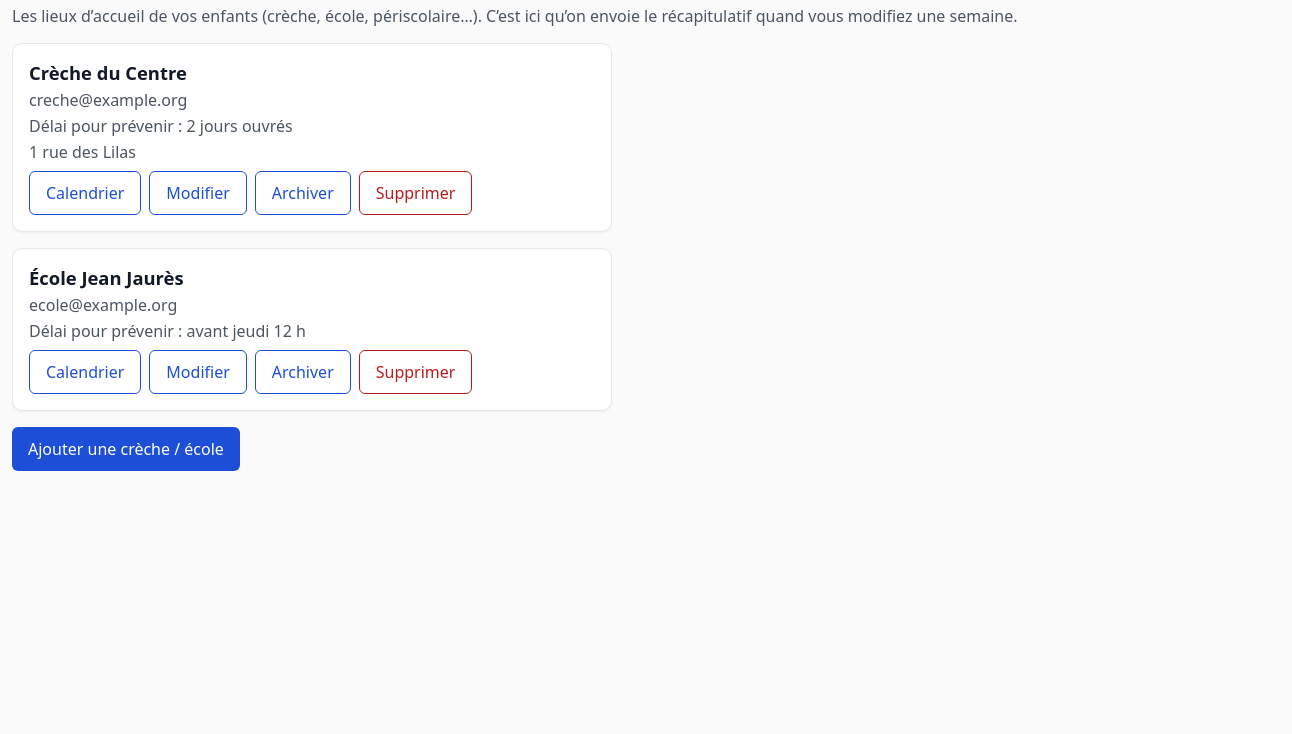
Test case: EtablissementsPage (per-foyer) › modifie une crèche / école depuis le formulaire prérempli
Expected: the heading "Crèche du Centre" is shown, [29,60,187,85]
Click the button with aria-label "Modifier Crèche du Centre": x=198, y=193 [149,171,247,215]
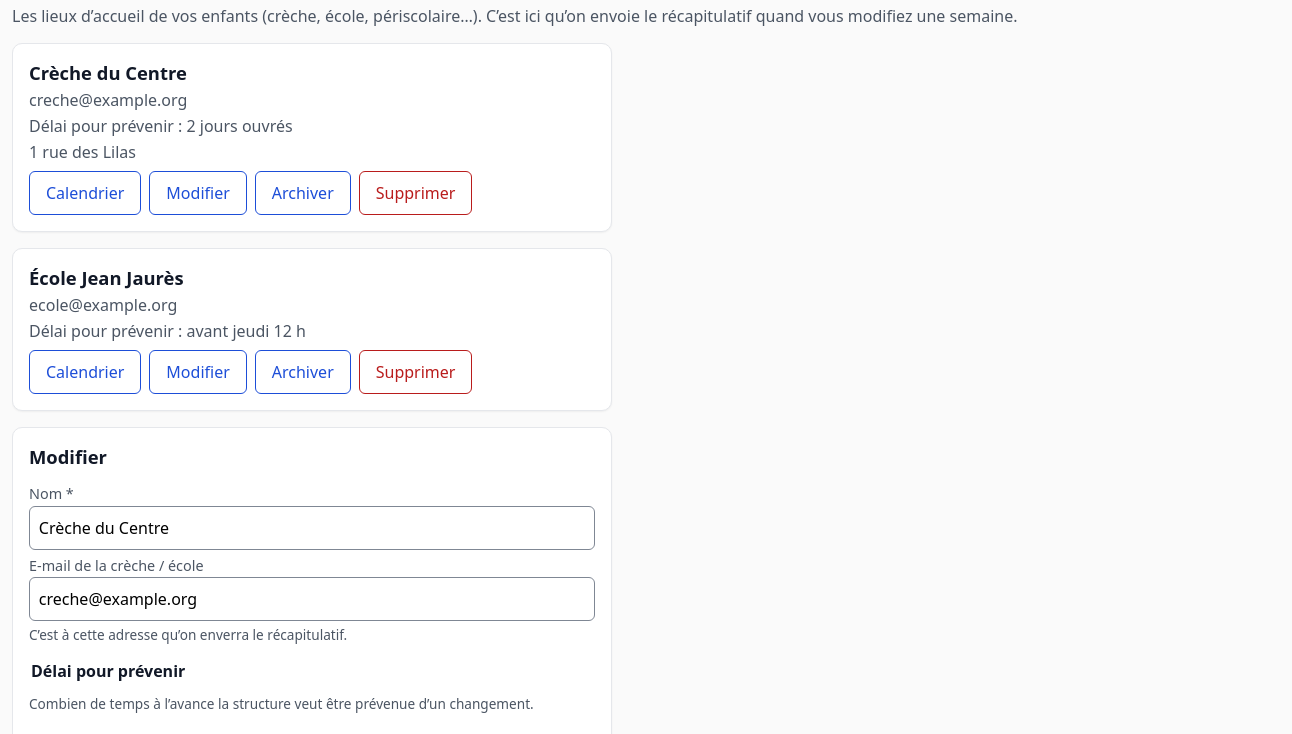
Expected: the heading "Modifier" is shown, [29,444,107,469]
Expected: the field labelled "Nom" holds "Crèche du Centre"
Replace the text in the field labelled "Nom" with "Crèche rebaptisée": x=312, y=528 [29,506,595,550]
(page scrolled)
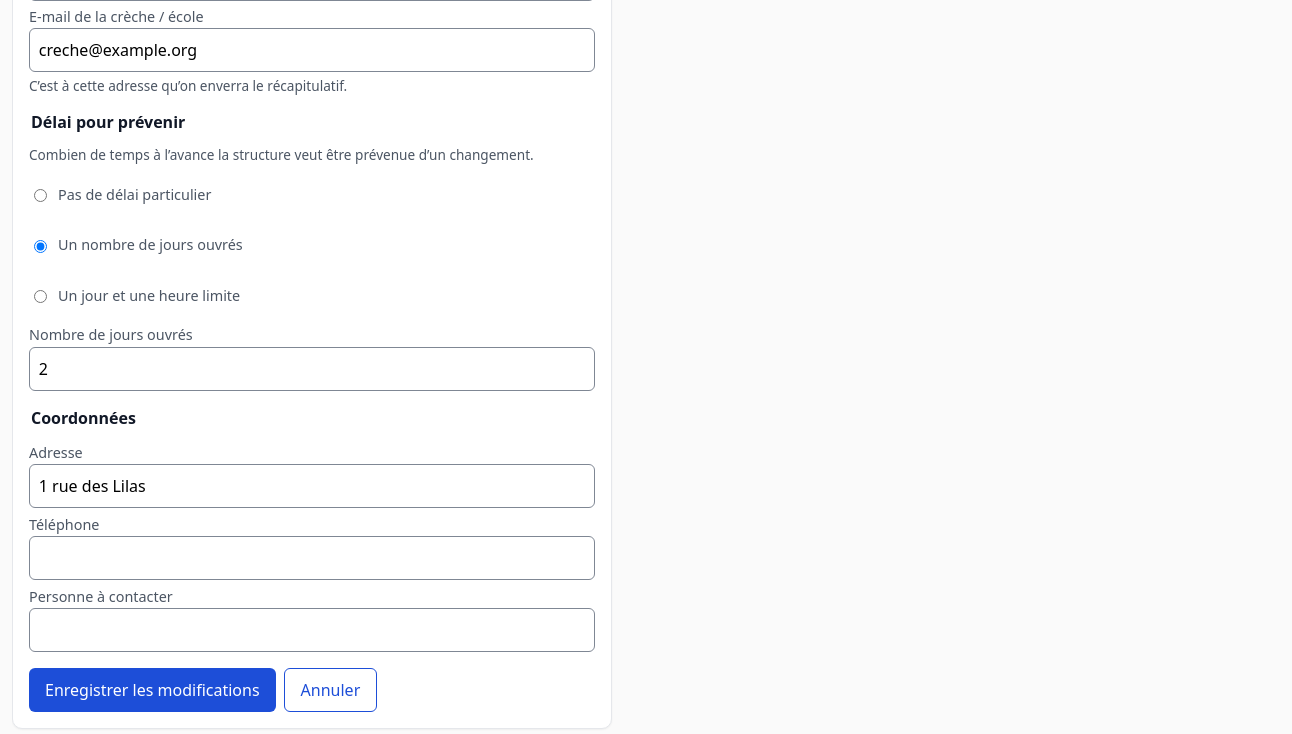
Click the button "Enregistrer les modifications": x=152, y=690 [29,668,276,712]
(page scrolled)
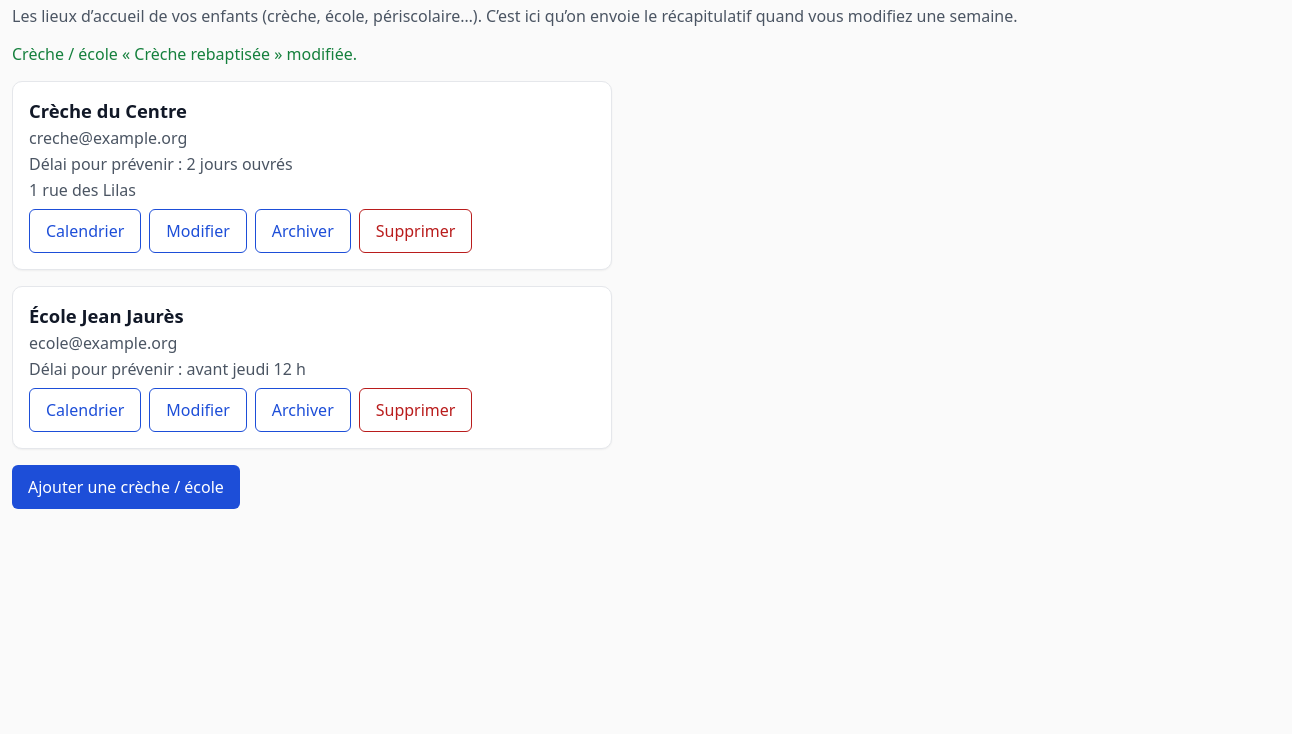
Expected: the text "Crèche / école « Crèche rebaptisée » modifiée." is shown, [12,43,357,65]
